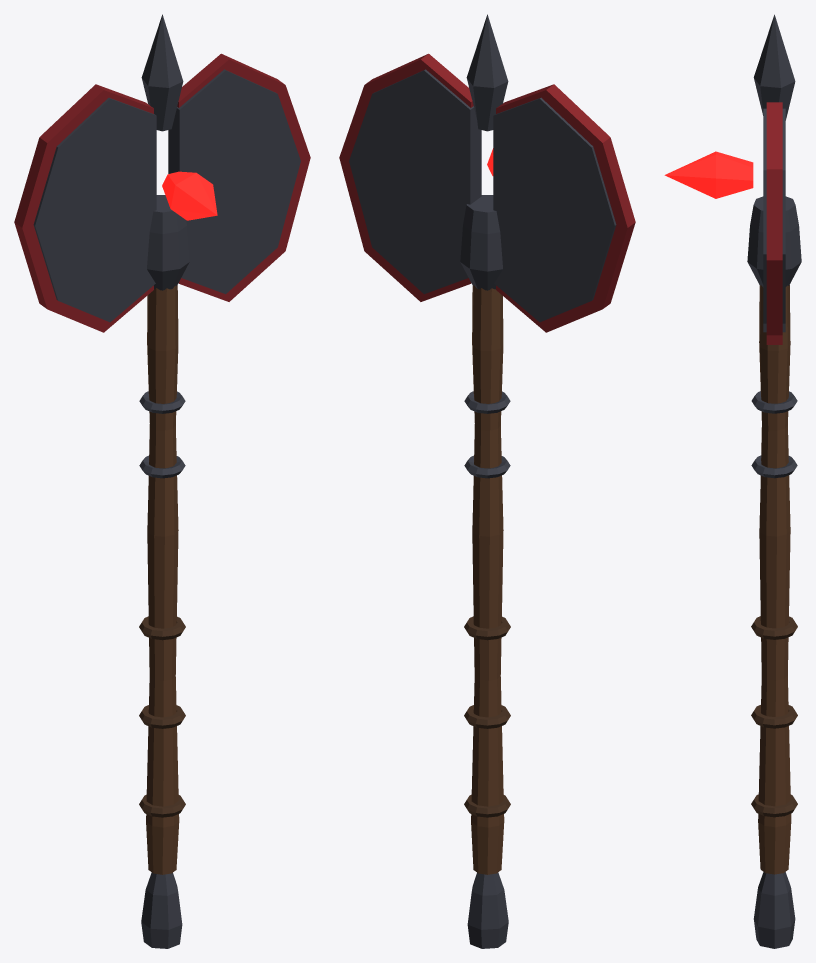
File: staff_waraxe.glb
3 renders of one model, left to right at view 1: azimuth 30°, elevation 25°; view 2: azimuth 150°, elevation 25°; view 3: azimuth 270°, elevation 25°, orthographic.
Parts seen in each view (by area): view 1: Wa_Blade0, Wa_Blade1, Wa_Shaft, Wa_Edge0, Wa_Edge1, Wa_Neck, Wa_Top, Wa_Pommel, Wa_Gem, Wa_Wrap1, Wa_Wrap2; view 2: Wa_Blade1, Wa_Blade0, Wa_Shaft, Wa_Edge0, Wa_Edge1, Wa_Neck, Wa_Top, Wa_Pommel, Wa_Wrap1, Wa_Wrap2; view 3: Wa_Shaft, Wa_Edge1, Wa_Pommel, Wa_Gem, Wa_Top, Wa_Neck, Wa_Blade1, Wa_Wrap1, Wa_Wrap2, Wa_Wrap0, Wa_Band0, Wa_Band1.
Boxes of the visible parts, bbox=[...] form: Wa_Blade0: bbox=[33, 97, 156, 322]; Wa_Blade1: bbox=[168, 69, 300, 294]; Wa_Shaft: bbox=[146, 285, 179, 874]; Wa_Edge0: bbox=[14, 84, 153, 332]; Wa_Edge1: bbox=[177, 53, 310, 301]; Wa_Neck: bbox=[147, 195, 189, 290]; Wa_Top: bbox=[141, 14, 183, 131]; Wa_Pommel: bbox=[141, 872, 182, 948]; Wa_Gem: bbox=[162, 171, 217, 220]; Wa_Wrap1: bbox=[139, 705, 185, 728]; Wa_Wrap2: bbox=[139, 616, 185, 640]; Wa_Blade1: bbox=[349, 69, 481, 294]; Wa_Blade0: bbox=[493, 97, 616, 322]; Wa_Shaft: bbox=[471, 285, 504, 874]; Wa_Edge0: bbox=[496, 84, 635, 332]; Wa_Edge1: bbox=[339, 53, 473, 301]; Wa_Neck: bbox=[460, 195, 502, 290]; Wa_Top: bbox=[466, 14, 508, 131]; Wa_Pommel: bbox=[467, 872, 508, 948]; Wa_Wrap1: bbox=[464, 705, 510, 728]; Wa_Wrap2: bbox=[464, 616, 510, 640]; Wa_Shaft: bbox=[758, 285, 791, 874]; Wa_Edge1: bbox=[766, 102, 782, 344]; Wa_Pommel: bbox=[753, 872, 795, 948]; Wa_Gem: bbox=[664, 151, 753, 198]; Wa_Top: bbox=[753, 14, 795, 120]; Wa_Neck: bbox=[747, 196, 801, 287]; Wa_Blade1: bbox=[763, 108, 785, 332]; Wa_Wrap1: bbox=[751, 705, 797, 728]; Wa_Wrap2: bbox=[751, 616, 797, 639]; Wa_Wrap0: bbox=[751, 794, 797, 817]; Wa_Band0: bbox=[751, 455, 797, 478]; Wa_Band1: bbox=[751, 391, 797, 413].
Bounding box in the file's own units: 0.7487 × 2.3 × 0.3091.
